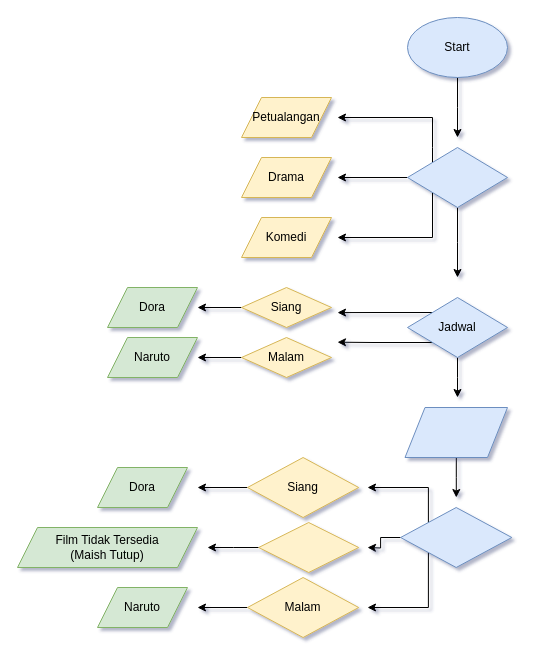
Image size: 536x661. Some labels were removed from this diagram. Here are the shapes that lost their labels. From the top down, the centre of each, then its label:
At point 457,177: "Genre".
At point 456,432: "Pilih Genre".
At point 308,547: "Pagi".
At point 456,537: "Pilih Jadwal".
